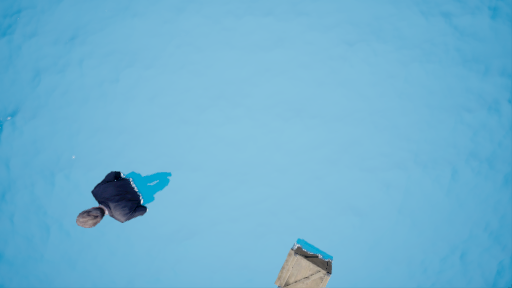person: (68, 163, 185, 230)
